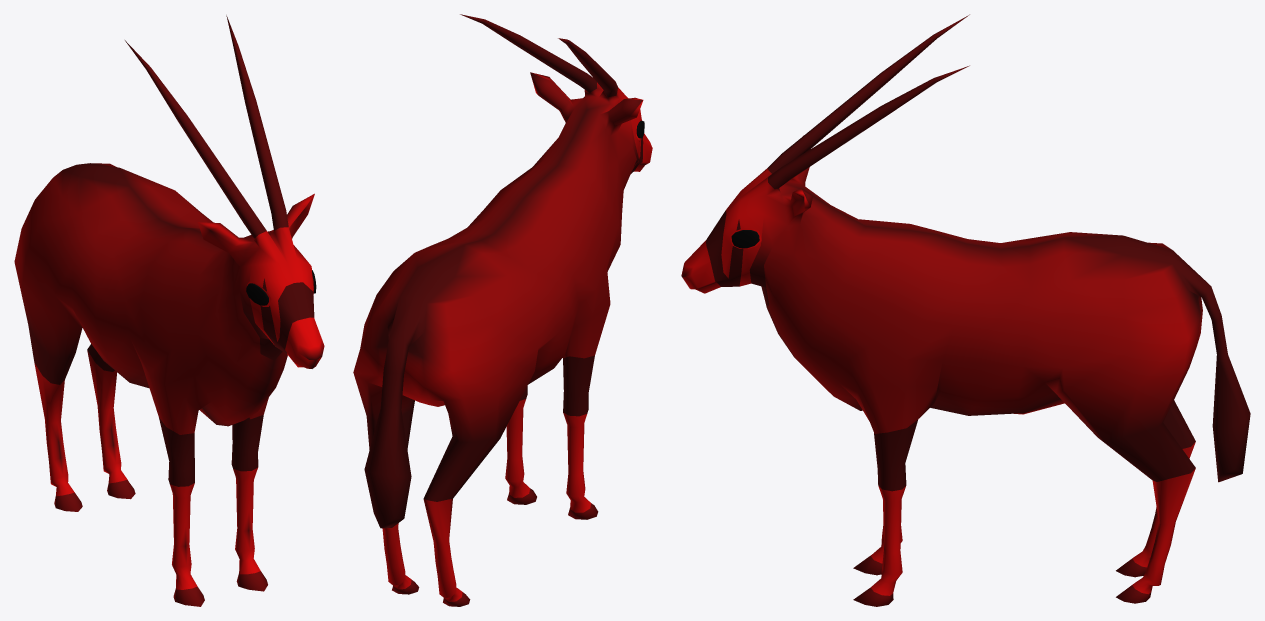
File: Animals_Gemsbok.fbx
3 views of the same model, side by side, from view 1: azimuth 30°, elevation 25°; view 2: azimuth 150°, elevation 25°; view 3: azimuth 270°, elevation 25° (orthographic). The views are drawn at different scales.
Visible parts, largest first — view 1: base; view 2: base; view 3: base.
Boxes of the visible parts, bbox=[...] form: base: bbox=[14, 15, 324, 606]; base: bbox=[353, 14, 652, 606]; base: bbox=[681, 14, 1250, 606].
Bounding box in the file's own units: 57.07 × 187 × 177.
